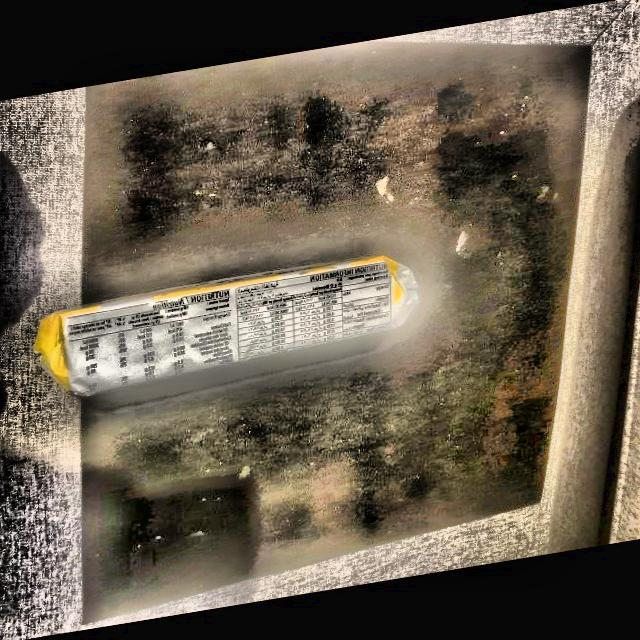lemon puff: (41, 272, 424, 389)
